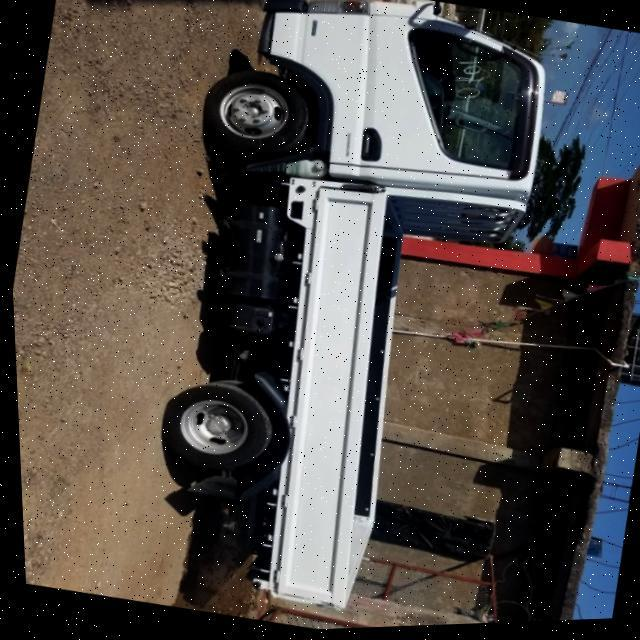truck: (115, 0, 579, 637)
